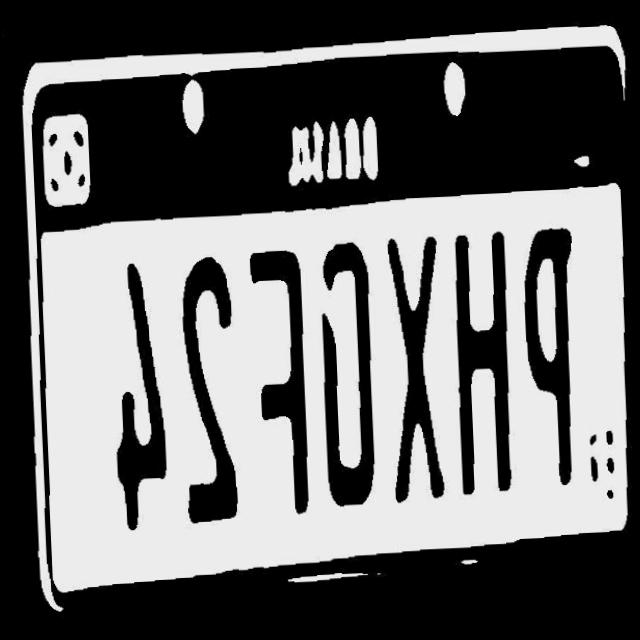0: (305, 226, 384, 521)
2: (165, 256, 245, 536)
4: (93, 260, 166, 531)
f: (246, 228, 310, 527)
h: (446, 209, 522, 503)
p: (521, 228, 584, 493)
x: (380, 237, 448, 508)
